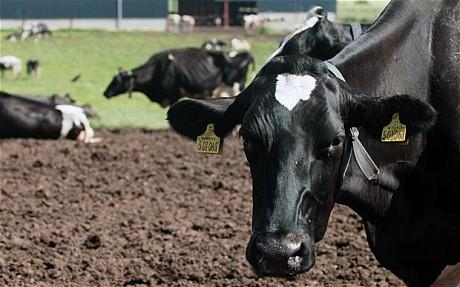muzzles: (244, 233, 319, 281)
